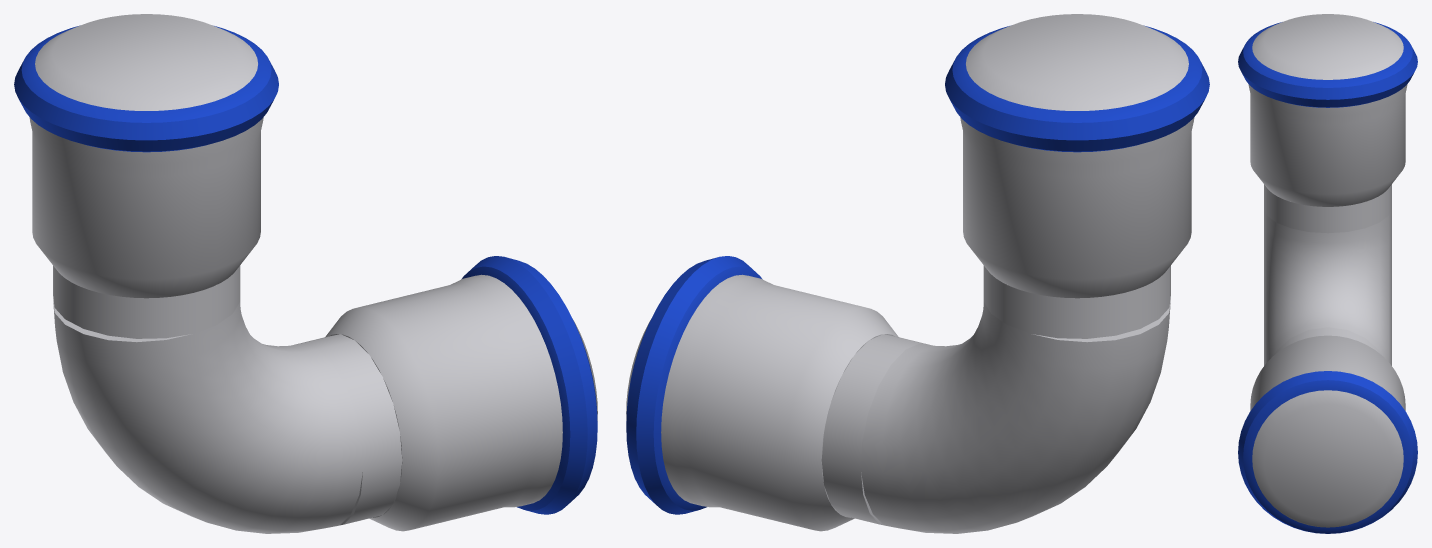
Rendered from fitting_e90_RU.glb.
The picture shows the model from 3 angles, left to right: view 1: azimuth 30°, elevation 25°; view 2: azimuth 150°, elevation 25°; view 3: azimuth 270°, elevation 25°; orthographic projection. The views are drawn at different scales.
Visible parts, largest first — view 1: раструб.001, изгиб, раструб, кольцо пресс.001, кольцо пресс, корпус.001, корпус; view 2: раструб.001, изгиб, раструб, кольцо пресс.001, кольцо пресс, корпус.001, корпус; view 3: раструб.001, раструб, изгиб, кольцо пресс, кольцо пресс.001, корпус.001, корпус.
Boxes of the visible parts, left/top/right/bottom form: раструб.001: left=29, top=14, right=263, bottom=298; изгиб: left=53, top=299, right=362, bottom=533; раструб: left=325, top=274, right=597, bottom=531; кольцо пресс.001: left=14, top=25, right=278, bottom=152; кольцо пресс: left=461, top=256, right=597, bottom=514; корпус.001: left=53, top=265, right=240, bottom=338; корпус: left=294, top=334, right=402, bottom=525; раструб.001: left=960, top=14, right=1194, bottom=298; изгиб: left=861, top=299, right=1170, bottom=533; раструб: left=626, top=274, right=898, bottom=531; кольцо пресс.001: left=945, top=25, right=1209, bottom=152; кольцо пресс: left=626, top=256, right=762, bottom=514; корпус.001: left=983, top=265, right=1170, bottom=338; корпус: left=821, top=334, right=929, bottom=525; раструб.001: left=1248, top=14, right=1407, bottom=206; раструб: left=1250, top=335, right=1405, bottom=527; изгиб: left=1264, top=208, right=1391, bottom=365; кольцо пресс: left=1238, top=371, right=1417, bottom=533; кольцо пресс.001: left=1238, top=22, right=1417, bottom=107; корпус.001: left=1264, top=184, right=1391, bottom=233; корпус: left=1273, top=327, right=1382, bottom=355.
Bounding box in the file's own units: 0.0796 × 0.0796 × 0.0352.
